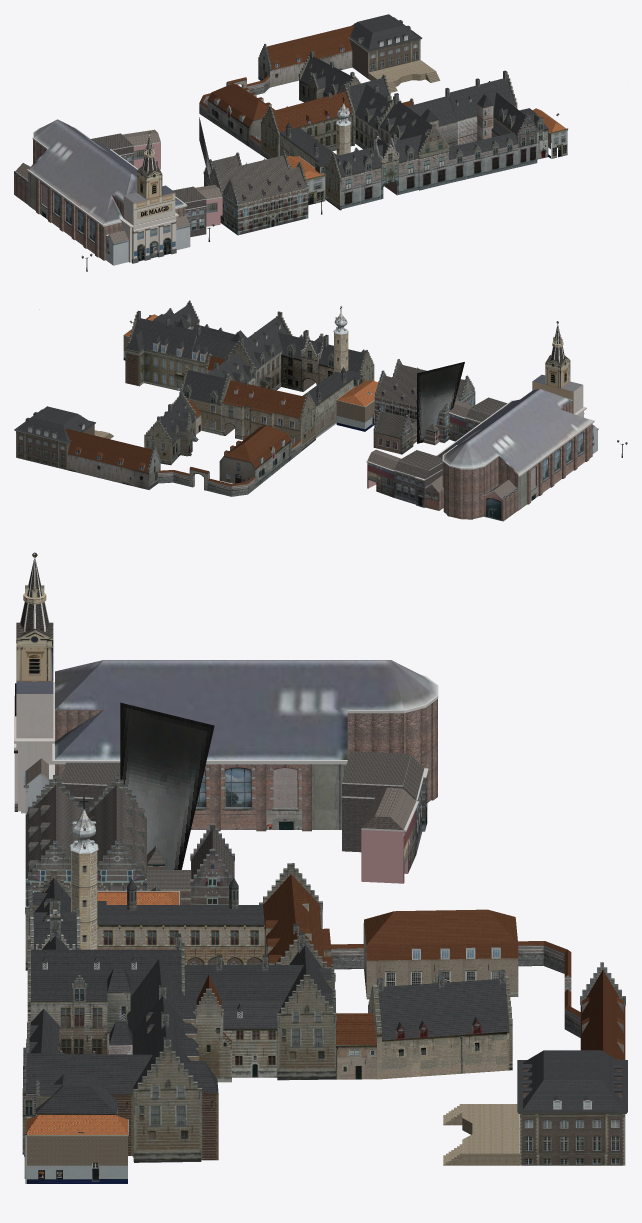
The model's file is Bergen.fbx.
The picture shows the model from 3 angles, top to bottom: view 1: azimuth 30°, elevation 25°; view 2: azimuth 150°, elevation 25°; view 3: azimuth 270°, elevation 25°; orthographic projection. The views are drawn at different scales.
Parts seen in each view (by area): view 1: group_7, group_1.015, instance_4.005, instance_4, instance_17, group_1.032, instance_5, group_1.036, instance_54.002, group_1.003, group_1.034, group_1.009 (+4 smaller); view 2: group_7, group_1.015, group_1.003, instance_142.004, group_1.023, instance_17, group_1.007, group_6.027, instance_17.005, group_1.019, group_6.021, instance_0.002 (+13 smaller); view 3: group_7, group_1.015, instance_142.004, group_1.003, group_6, instance_17, instance_4, group_1.006, instance_56, group_1.009, group_6.006, instance_50 (+16 smaller).
Part boxes in pixels (box(x1,y1,x2,y2)): group_7: box(199, 14, 548, 210); group_1.015: box(28, 119, 183, 224); instance_4.005: box(239, 188, 306, 234); instance_4: box(233, 167, 306, 204); instance_17: box(217, 155, 288, 190); group_1.032: box(133, 192, 175, 225); instance_5: box(222, 178, 239, 235); group_1.036: box(120, 212, 178, 262); instance_54.002: box(106, 234, 129, 265); group_1.003: box(14, 142, 46, 204); group_1.034: box(137, 237, 171, 261); group_1.009: box(90, 133, 133, 149); group_7: box(14, 300, 374, 496); group_1.015: box(439, 389, 592, 474); group_1.003: box(438, 448, 517, 521); instance_142.004: box(417, 362, 464, 443); group_1.023: box(394, 470, 424, 507); instance_17: box(376, 375, 444, 412); group_1.007: box(366, 461, 394, 497); group_6.027: box(337, 380, 378, 406); instance_17.005: box(376, 396, 442, 426); group_1.019: box(483, 484, 517, 521); group_6.021: box(336, 401, 374, 422); instance_0.002: box(375, 411, 405, 437); group_7: box(22, 851, 627, 1165); group_1.015: box(55, 660, 436, 759); instance_142.004: box(120, 702, 214, 869); group_1.003: box(347, 704, 431, 802); group_6: box(27, 1136, 127, 1165); instance_17: box(87, 785, 146, 878); instance_4: box(25, 785, 82, 878); group_1.006: box(361, 829, 407, 883); instance_56: box(312, 764, 346, 829); group_1.009: box(342, 751, 410, 785); group_6.006: box(27, 1115, 127, 1134); instance_50: box(16, 630, 53, 681).
Bounding box in the file's own units: 189 × 39.17 × 90.9.
70 materials, 63 textured.
